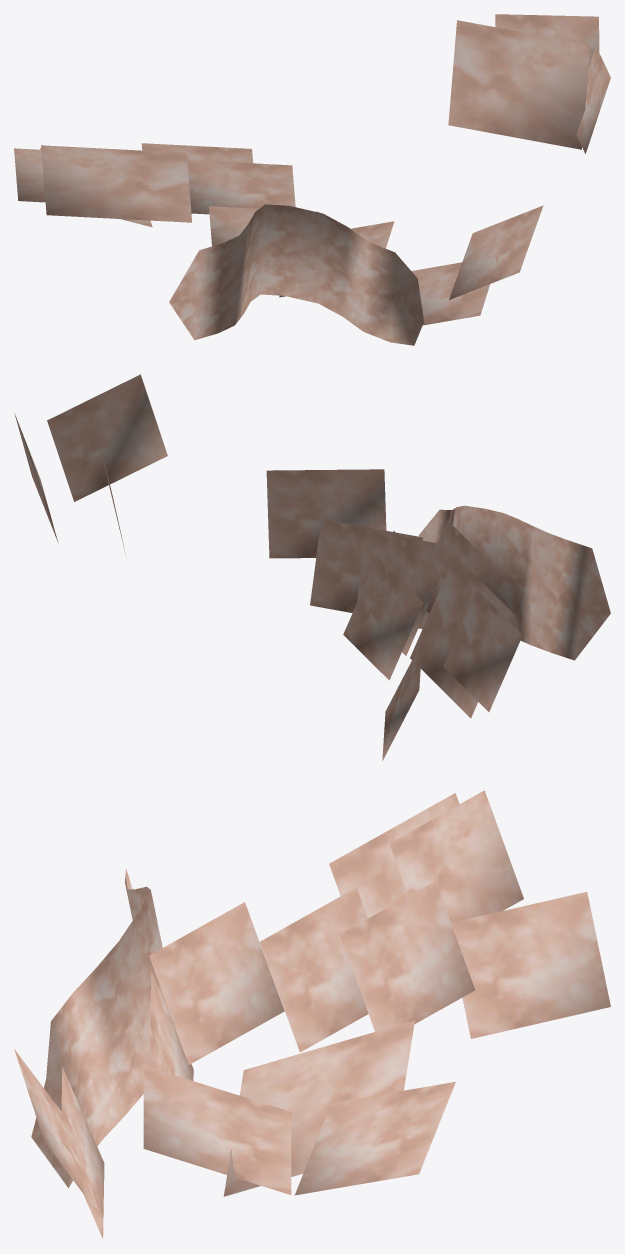
Rendered from stg210_MotCloud_20.obj.
The picture shows the model from 3 angles, top to bottom: view 1: azimuth 30°, elevation 25°; view 2: azimuth 150°, elevation 25°; view 3: azimuth 270°, elevation 25°; orthographic projection. The views are drawn at different scales.
Parts seen in each view (by area): view 1: polygon12, polygon10, polygon2, polygon3, polygon5, polygon6, polygon11, polygon9, polygon4, polygon1, polygon8, polygon7; view 2: polygon12, polygon9, polygon5, polygon1, polygon4, polygon2, polygon6, polygon3, polygon8, polygon0, polygon7, polygon11; view 3: polygon12, polygon0, polygon8, polygon1, polygon9, polygon10, polygon11, polygon3, polygon4, polygon2, polygon5, polygon6 (+1 smaller).
Boxes of the visible parts, left/top/right/bottom form: polygon12: left=169, top=204, right=423, bottom=345; polygon10: left=448, top=20, right=590, bottom=149; polygon2: left=41, top=145, right=192, bottom=222; polygon3: left=187, top=160, right=295, bottom=214; polygon5: left=449, top=205, right=543, bottom=299; polygon6: left=411, top=256, right=498, bottom=325; polygon11: left=495, top=14, right=599, bottom=66; polygon9: left=576, top=46, right=610, bottom=153; polygon4: left=14, top=148, right=45, bottom=202; polygon1: left=141, top=143, right=253, bottom=163; polygon8: left=209, top=206, right=319, bottom=246; polygon7: left=279, top=221, right=394, bottom=297; polygon12: left=419, top=505, right=610, bottom=660; polygon9: left=47, top=374, right=167, bottom=501; polygon5: left=266, top=469, right=386, bottom=558; polygon1: left=343, top=557, right=423, bottom=680; polygon4: left=443, top=589, right=522, bottom=711; polygon2: left=410, top=555, right=515, bottom=718; polygon6: left=310, top=519, right=422, bottom=612; polygon3: left=381, top=531, right=440, bottom=655; polygon8: left=426, top=520, right=493, bottom=613; polygon0: left=382, top=641, right=422, bottom=760; polygon7: left=357, top=530, right=436, bottom=628; polygon11: left=14, top=413, right=58, bottom=542; polygon12: left=31, top=868, right=171, bottom=1187; polygon0: left=451, top=892, right=610, bottom=1038; polygon8: left=149, top=902, right=284, bottom=1064; polygon1: left=340, top=881, right=474, bottom=1031; polygon9: left=143, top=1065, right=291, bottom=1194; polygon10: left=223, top=1020, right=414, bottom=1196; polygon11: left=294, top=1081, right=455, bottom=1195; polygon3: left=260, top=887, right=368, bottom=1052; polygon4: left=389, top=790, right=523, bottom=922; polygon2: left=329, top=793, right=459, bottom=918; polygon5: left=14, top=1049, right=100, bottom=1216; polygon6: left=61, top=1067, right=104, bottom=1238.
Bounding box in the file's own units: 4357 × 1554 × 2957.
Materials: 2 (2 with a texture image).
